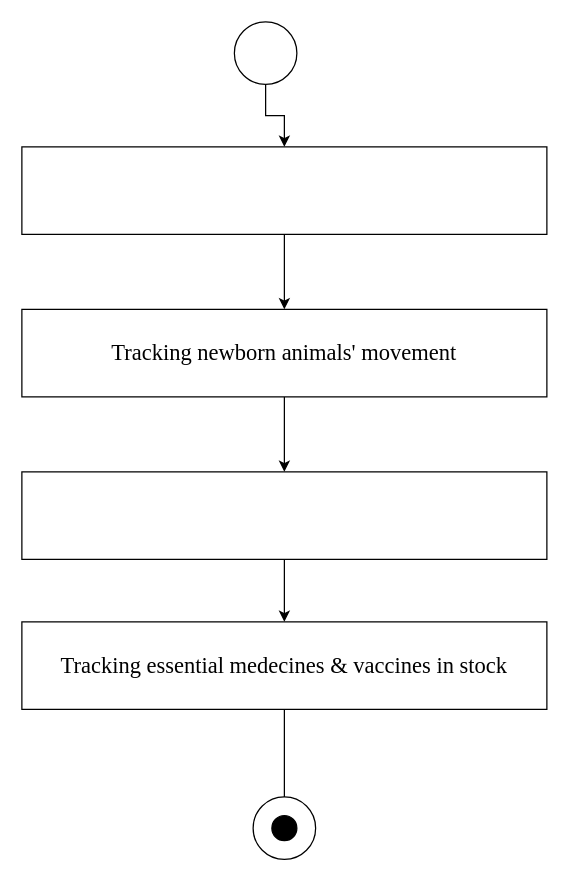
Image size: 569x881. Some labels were removed from this diagram. Here are the shapes that lost their labels. From the top down, the centre of each, then its label:
At point (284, 190): "Recording health status of animals of vet and staffs".
At point (284, 515): "Special tracking of pregnant animals".
